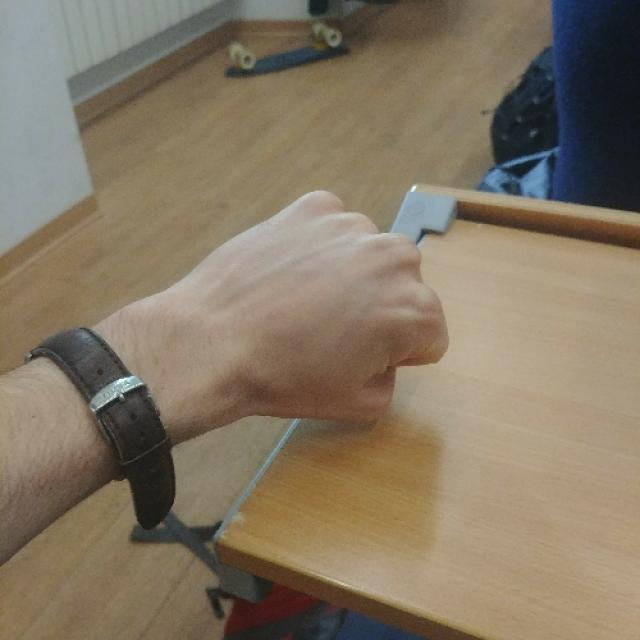fist: (212, 194, 448, 428)
